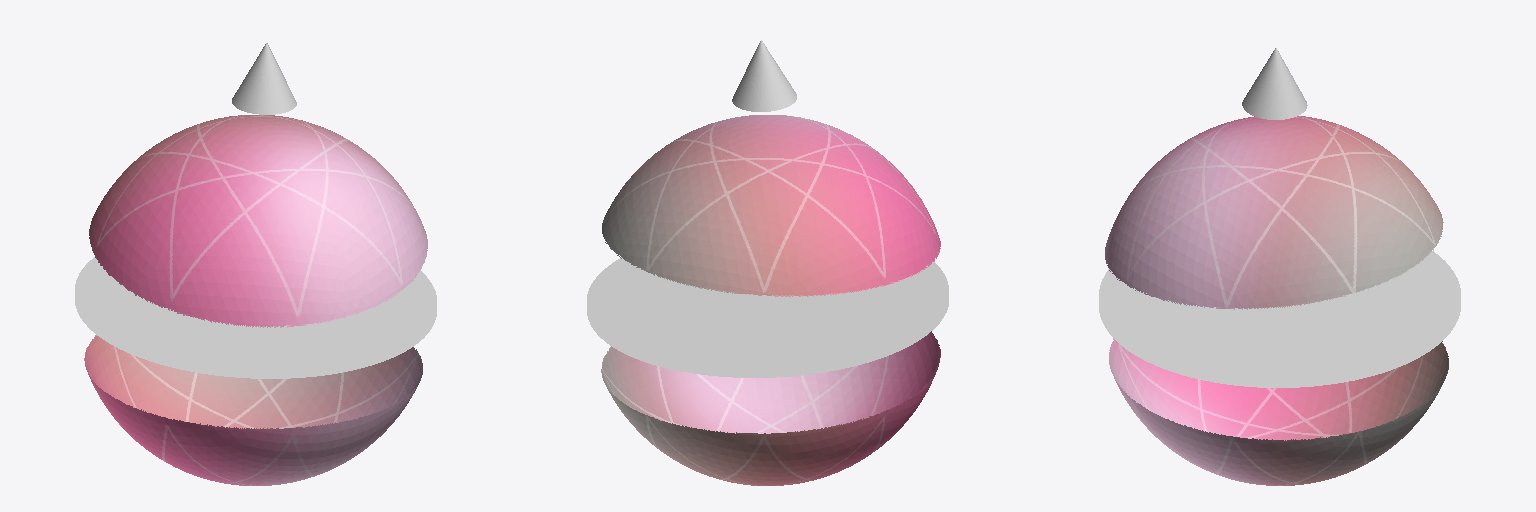
3 views of the same model, side by side, from view 1: azimuth 30°, elevation 25°; view 2: azimuth 150°, elevation 25°; view 3: azimuth 270°, elevation 25° (orthographic).
Parts seen in each view (by area): view 1: Object.2, Object.3, Object.1; view 2: Object.2, Object.3, Object.1; view 3: Object.2, Object.3, Object.1.
Boxes of the visible parts, <box> form: Object.2: <box>75,115,436,369</box>; Object.3: <box>75,295,436,485</box>; Object.1: <box>232,43,296,114</box>; Object.2: <box>587,115,948,368</box>; Object.3: <box>587,296,948,485</box>; Object.1: <box>732,40,796,111</box>; Object.2: <box>1099,116,1460,378</box>; Object.3: <box>1099,303,1460,485</box>; Object.1: <box>1242,48,1307,119</box>.
Bounding box in the file's own units: 24 × 31.09 × 23.96.
Materials: 2 (1 with a texture image).